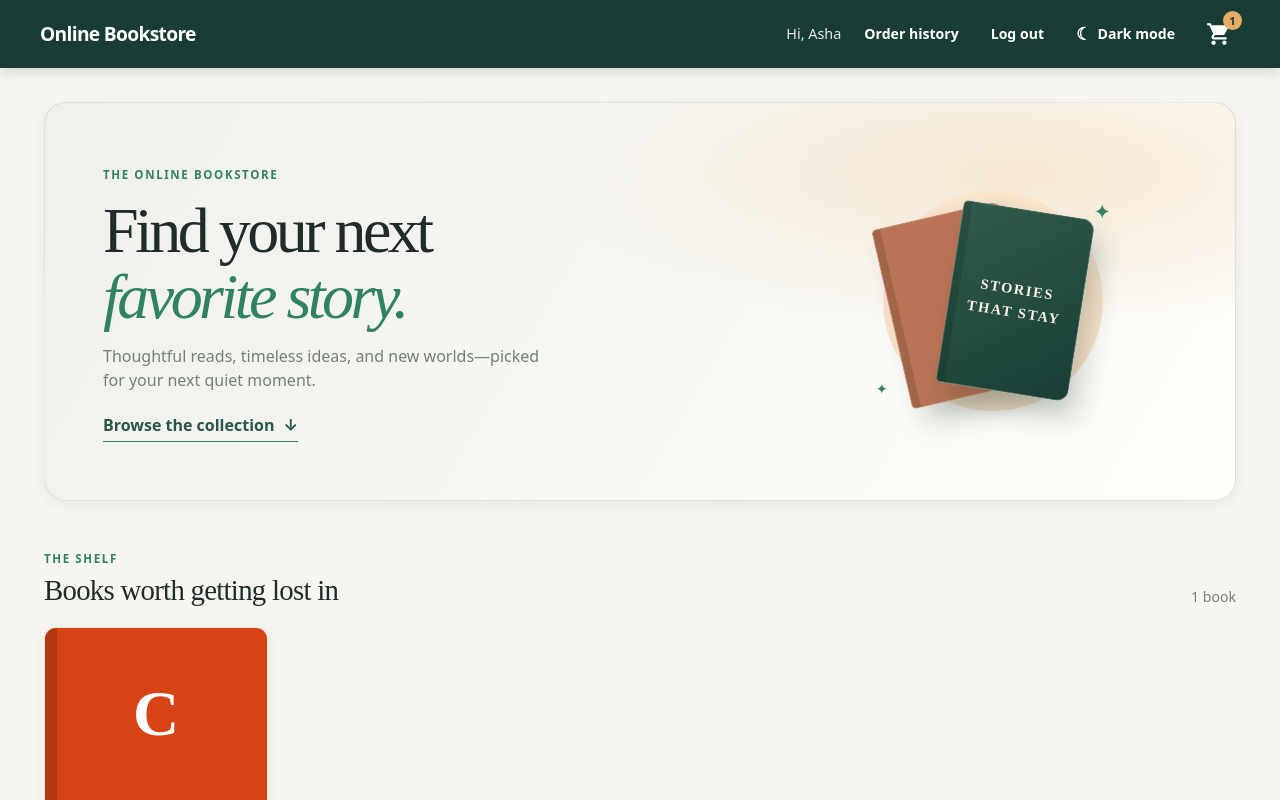
Test: App (logged in) › opens the cart page and removes an item
Click the button named "Open cart (1)".
click(1219, 34)  # box [1198,13,1240,55]
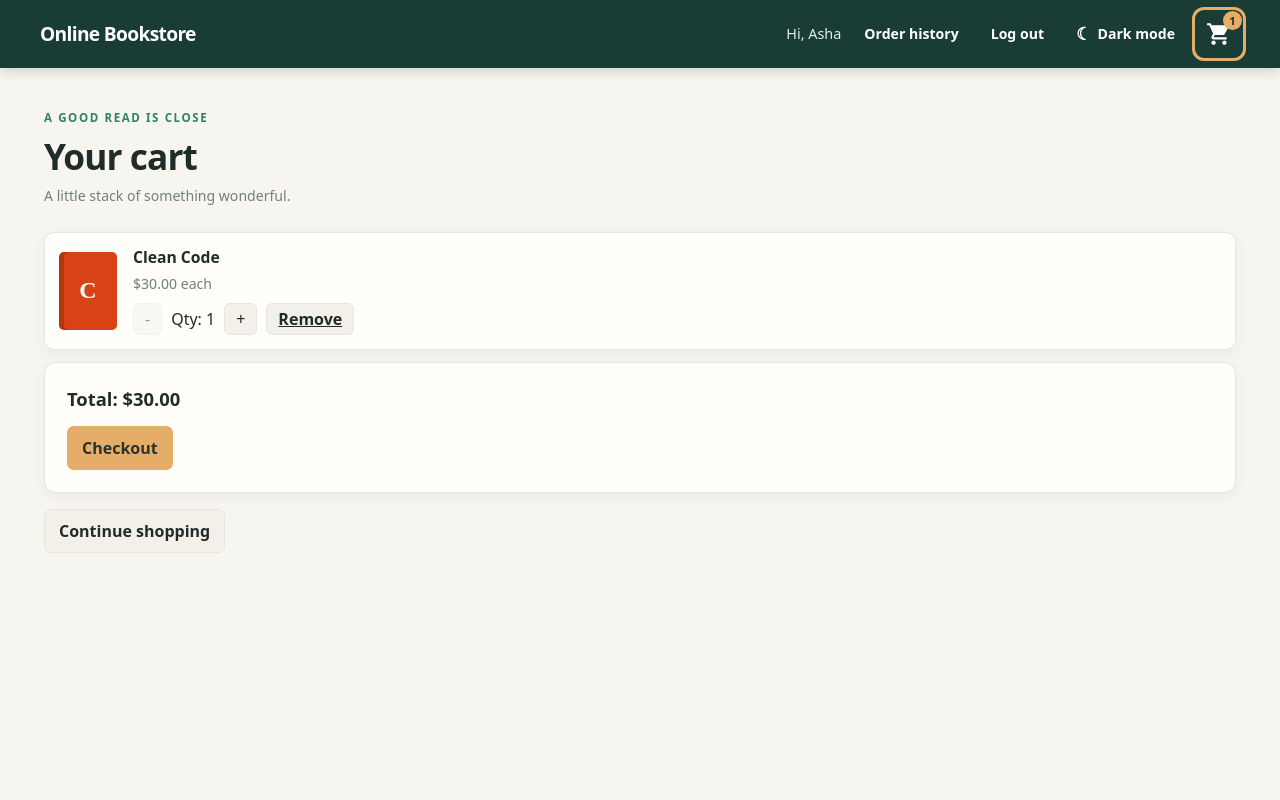
Expected: the text "Total: $30.00" is shown, [67,386,180,411]
Click the button with aria-label "Remove Clean Code".
click(310, 319)  # box [266,303,354,335]
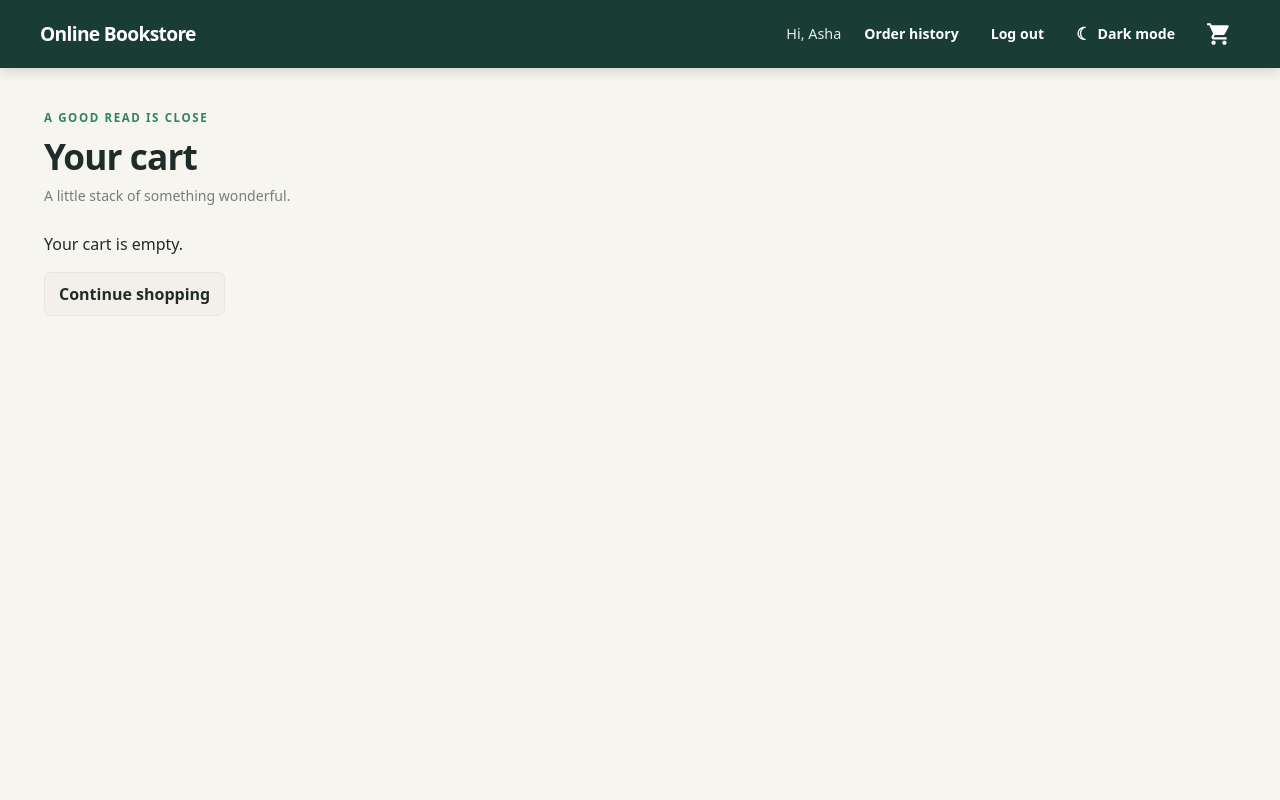
Expected: the text "Your cart is empty." is shown, [44,233,183,255]
